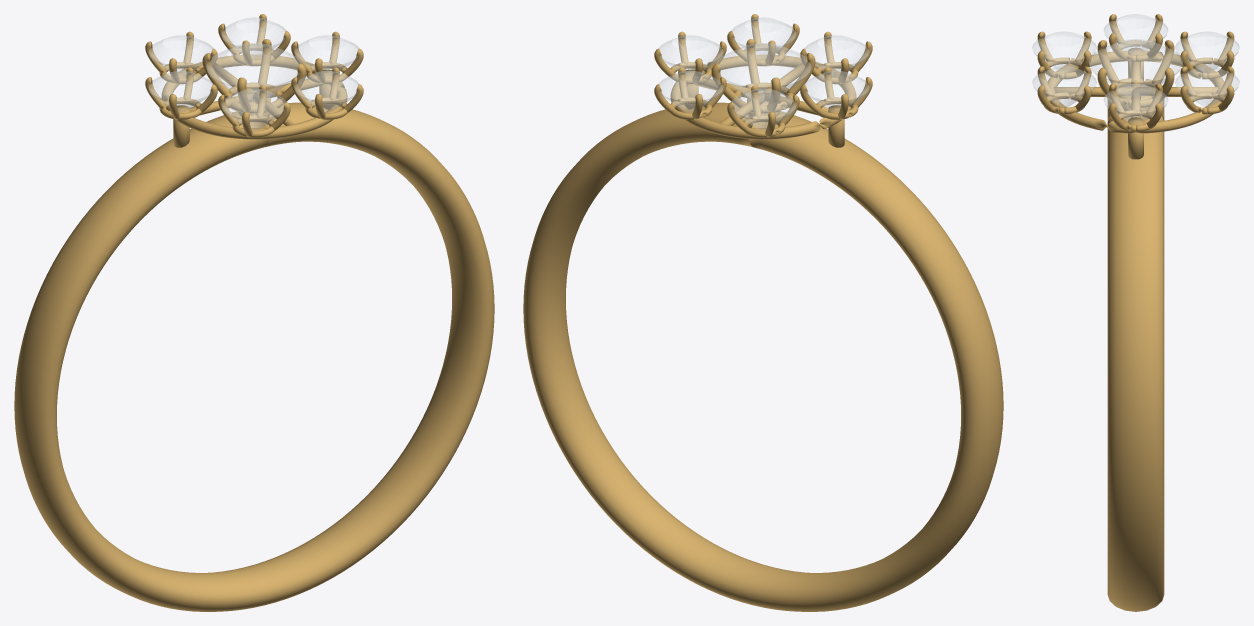
The model's file is layouts-cluster.glb.
The picture shows the model from 3 angles, left to right: view 1: azimuth 30°, elevation 25°; view 2: azimuth 150°, elevation 25°; view 3: azimuth 270°, elevation 25°; orthographic projection. The views are drawn at different scales.
Visible parts, largest first — view 1: Band, Gem, Bezel rim, Gem.006, Gem.005, Gem.004, Gem.001, Gem.003, Gem.002; view 2: Band, Gem, Bezel rim, Gem.002, Gem.003, Gem.004, Gem.001, Gem.005, Gem.006; view 3: Band, Gem, Bezel rim, Gem.002, Gem.006, Gem.001, Gem.003, Gem.005, Gem.004, Side head support, Lower gallery, Cluster gallery spoke.001 (+9 smaller).
Boxes of the visible parts, left/top/right/bottom form: Band: left=14, top=102, right=494, bottom=611; Gem: left=206, top=43, right=301, bottom=98; Bezel rim: left=161, top=55, right=347, bottom=139; Gem.006: left=294, top=71, right=358, bottom=112; Gem.005: left=221, top=88, right=286, bottom=130; Gem.004: left=148, top=71, right=212, bottom=111; Gem.001: left=294, top=35, right=359, bottom=70; Gem.003: left=148, top=35, right=212, bottom=76; Gem.002: left=221, top=17, right=285, bottom=58; Band: left=523, top=102, right=1003, bottom=611; Gem: left=716, top=43, right=811, bottom=98; Bezel rim: left=670, top=55, right=856, bottom=139; Gem.002: left=659, top=71, right=723, bottom=112; Gem.003: left=731, top=88, right=796, bottom=130; Gem.004: left=805, top=71, right=869, bottom=111; Gem.001: left=658, top=35, right=723, bottom=70; Gem.005: left=805, top=35, right=869, bottom=76; Gem.006: left=732, top=17, right=796, bottom=58; Band: left=1107, top=84, right=1164, bottom=611; Gem: left=1089, top=39, right=1182, bottom=94; Bezel rim: left=1045, top=50, right=1226, bottom=133; Gem.002: left=1175, top=66, right=1239, bottom=107; Gem.006: left=1032, top=66, right=1096, bottom=107; Gem.001: left=1104, top=84, right=1167, bottom=123; Gem.003: left=1175, top=31, right=1239, bottom=72; Gem.005: left=1032, top=31, right=1096, bottom=72; Gem.004: left=1104, top=14, right=1167, bottom=51; Side head support: left=1128, top=117, right=1143, bottom=159; Lower gallery: left=1107, top=78, right=1164, bottom=107; Cluster gallery spoke.001: left=1136, top=87, right=1218, bottom=96.
Size of the model in its own units: 19.6 by 21.9 by 7.68.
